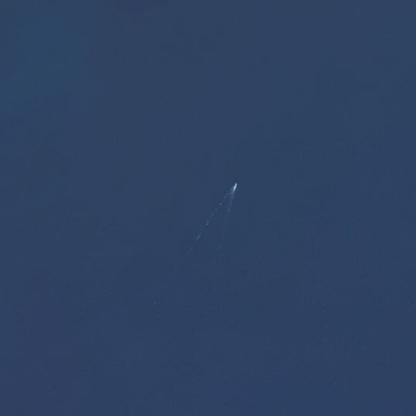ship: (230, 177, 240, 192)
